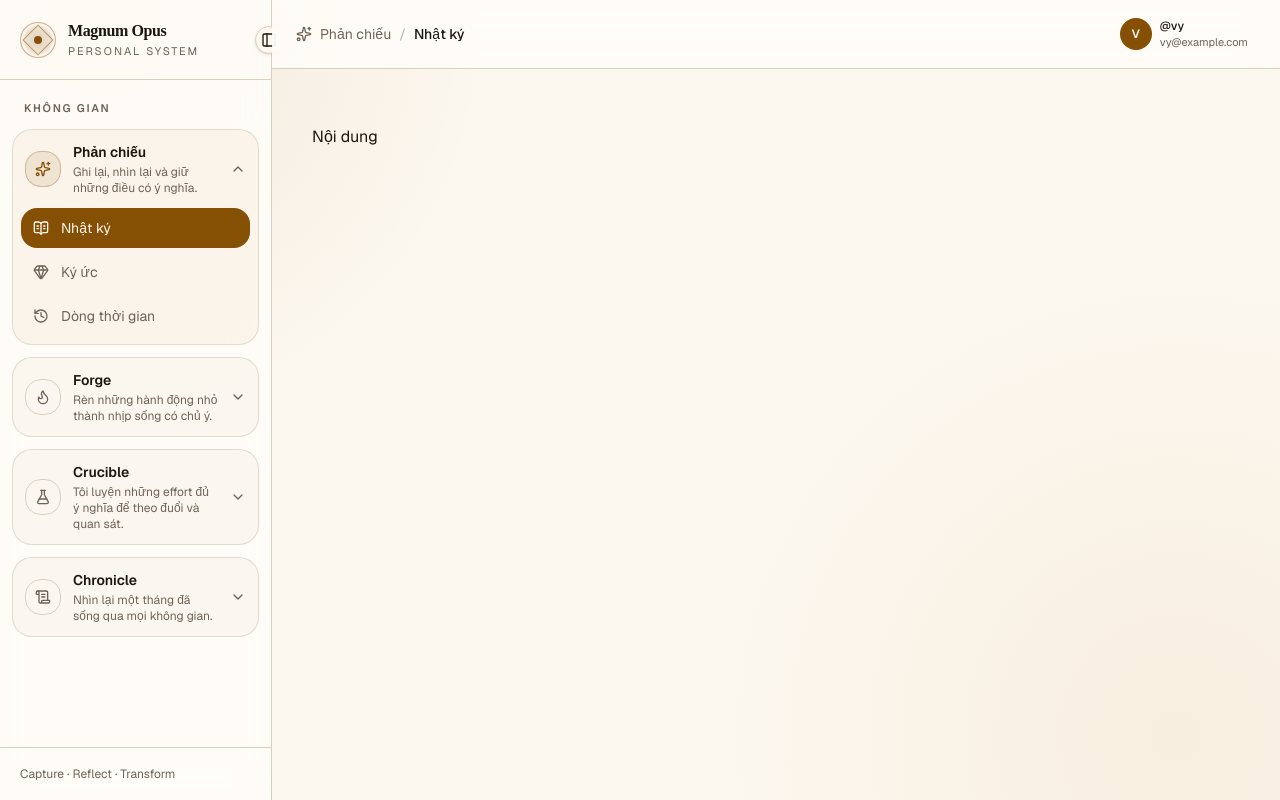
AccountShell › connects the desktop collapse toggle through the shared sidebar context
This screenshot has width=1280, height=800.
Expected: the text "Personal system" is shown, [68,43,199,60]
Click the button named "Thu gọn hoặc mở rộng thanh điều hướng" at (269, 40), box [255,26,283,54]
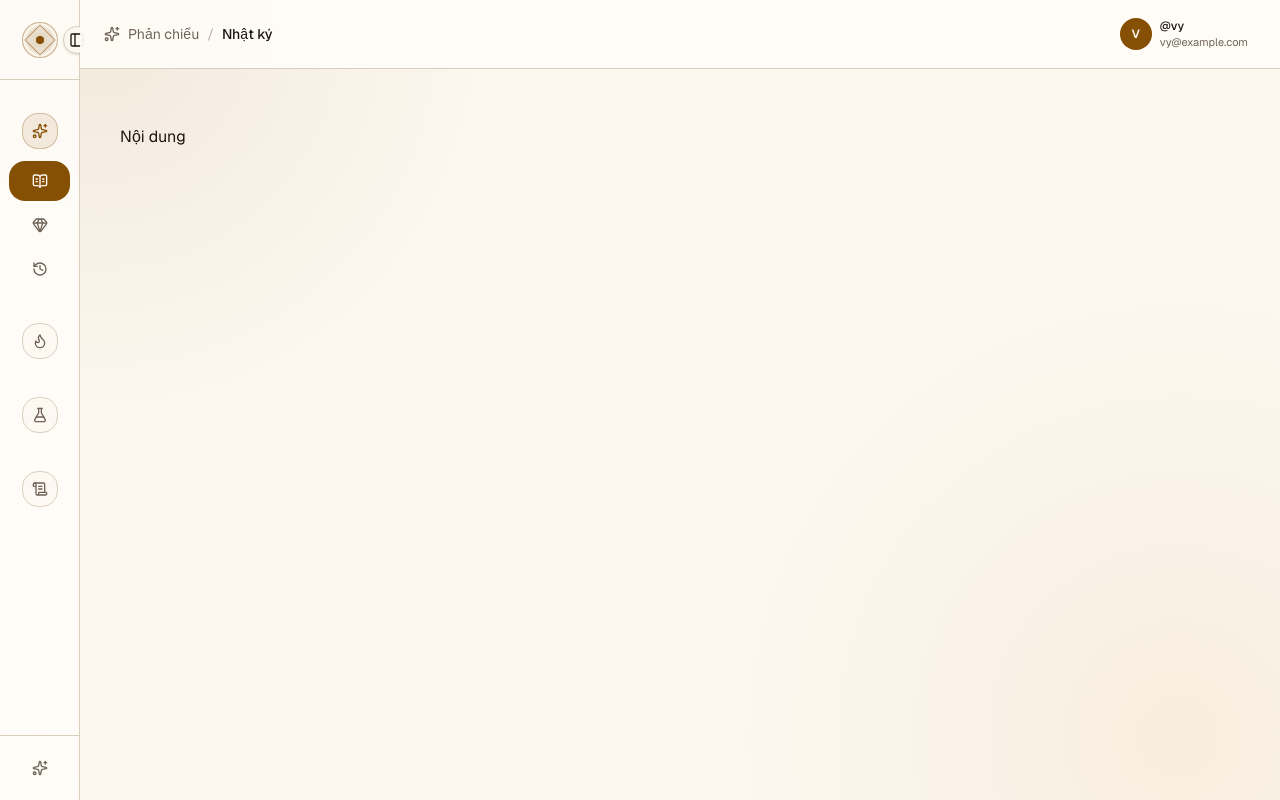
Expected: the text "Personal system" is gone
